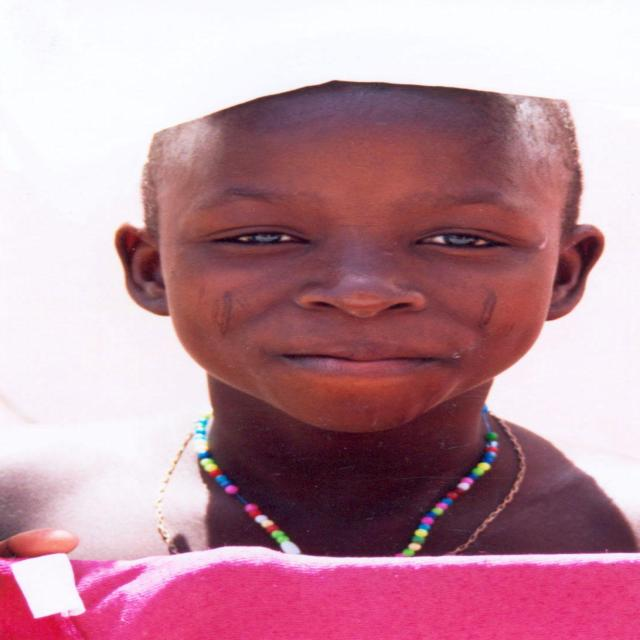no-glass: (176, 226, 523, 258)
